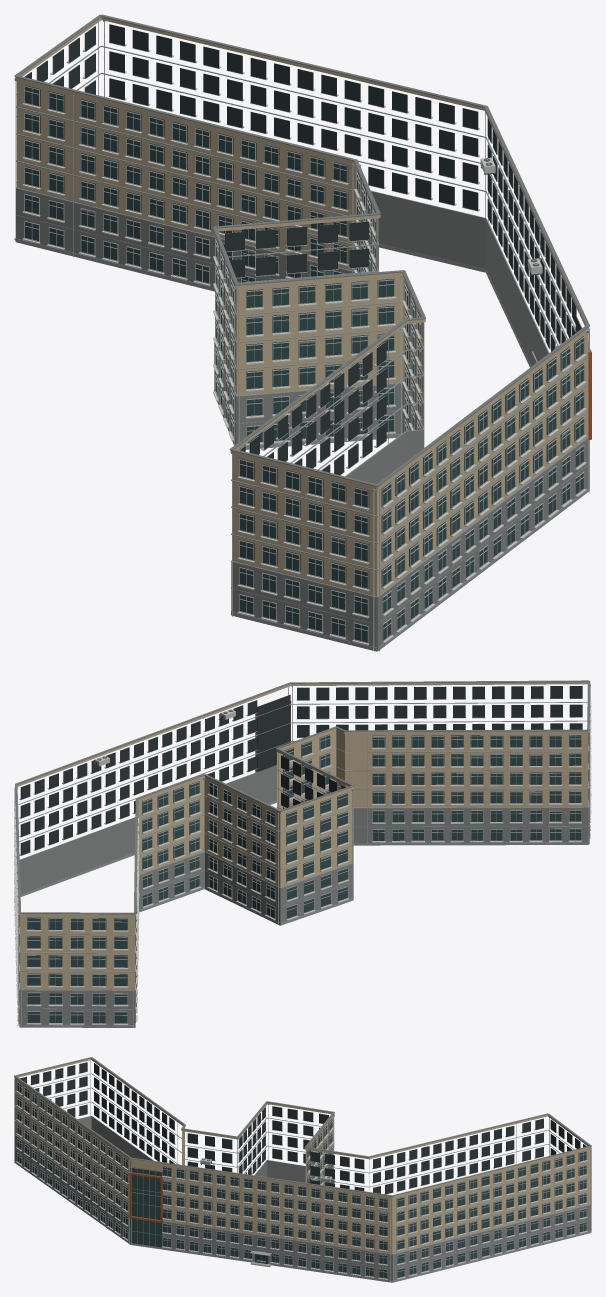
File: osm_way_1173057055.glb
3 renders of one model, top to bottom at view 1: azimuth 30°, elevation 25°; view 2: azimuth 150°, elevation 25°; view 3: azimuth 270°, elevation 25°, orthographic. The views are drawn at different scales.
Parts seen in each view (by area): view 1: Windows and facade details | 计算机学院、软件学院、网络空间安全学院, Architecture | 计算机学院、软件学院、网络空间安全学院, Roof services | 计算机学院、软件学院、网络空间安全学院, EXTERIOR::osm_way_1173057055::rainwater and roof service det; view 2: Windows and facade details | 计算机学院、软件学院、网络空间安全学院, Architecture | 计算机学院、软件学院、网络空间安全学院, Roof services | 计算机学院、软件学院、网络空间安全学院, EXTERIOR::osm_way_1173057055::rainwater and roof service det; view 3: Windows and facade details | 计算机学院、软件学院、网络空间安全学院, Architecture | 计算机学院、软件学院、网络空间安全学院, Roof services | 计算机学院、软件学院、网络空间安全学院, EXTERIOR::osm_way_1173057055::rainwater and roof service det.
Boxes of the visible parts, x1,y1,x2,y2 form: Windows and facade details | 计算机学院、软件学院、网络空间安全学院: [22, 22, 589, 651]; Architecture | 计算机学院、软件学院、网络空间安全学院: [15, 17, 591, 651]; Roof services | 计算机学院、软件学院、网络空间安全学院: [14, 14, 589, 486]; EXTERIOR::osm_way_1173057055::rainwater and roof service det: [14, 20, 589, 651]; Windows and facade details | 计算机学院、软件学院、网络空间安全学院: [14, 684, 591, 1027]; Architecture | 计算机学院、软件学院、网络空间安全学院: [17, 682, 589, 1027]; Roof services | 计算机学院、软件学院、网络空间安全学院: [15, 680, 590, 914]; EXTERIOR::osm_way_1173057055::rainwater and roof service det: [17, 684, 591, 1027]; Windows and facade details | 计算机学院、软件学院、网络空间安全学院: [14, 1060, 591, 1282]; Architecture | 计算机学院、软件学院、网络空间安全学院: [14, 1058, 591, 1282]; Roof services | 计算机学院、软件学院、网络空间安全学院: [14, 1057, 591, 1196]; EXTERIOR::osm_way_1173057055::rainwater and roof service det: [128, 1104, 590, 1282].
Size of the model in its own units: 78.28 by 23.58 by 137.
